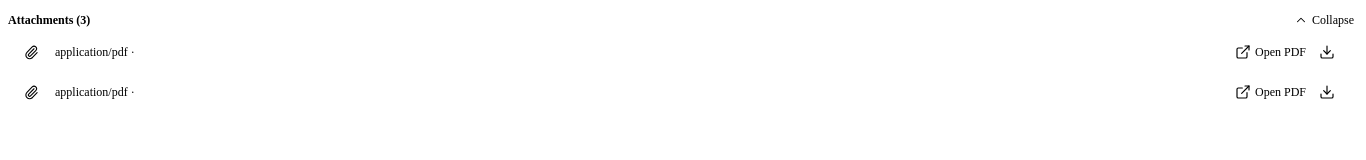
MessageAttachmentBar › removes unnecessary disclosure after a parent resize and preserves useful keyboard focus
Click the button with class "message-attachment-bar__toggle" at {"x": 1324, "y": 20}, box x1=1290 y1=8 x2=1358 y2=32
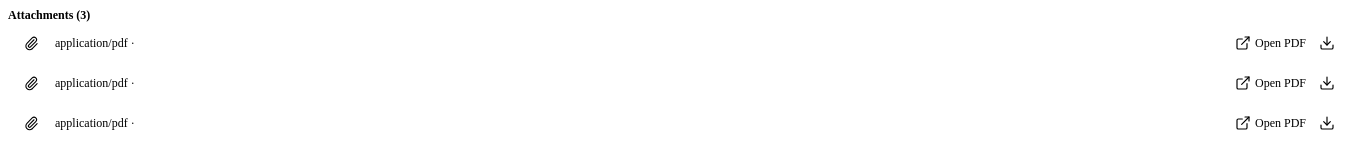
Expected: the button with class "message-attachment-bar__toggle" is gone
